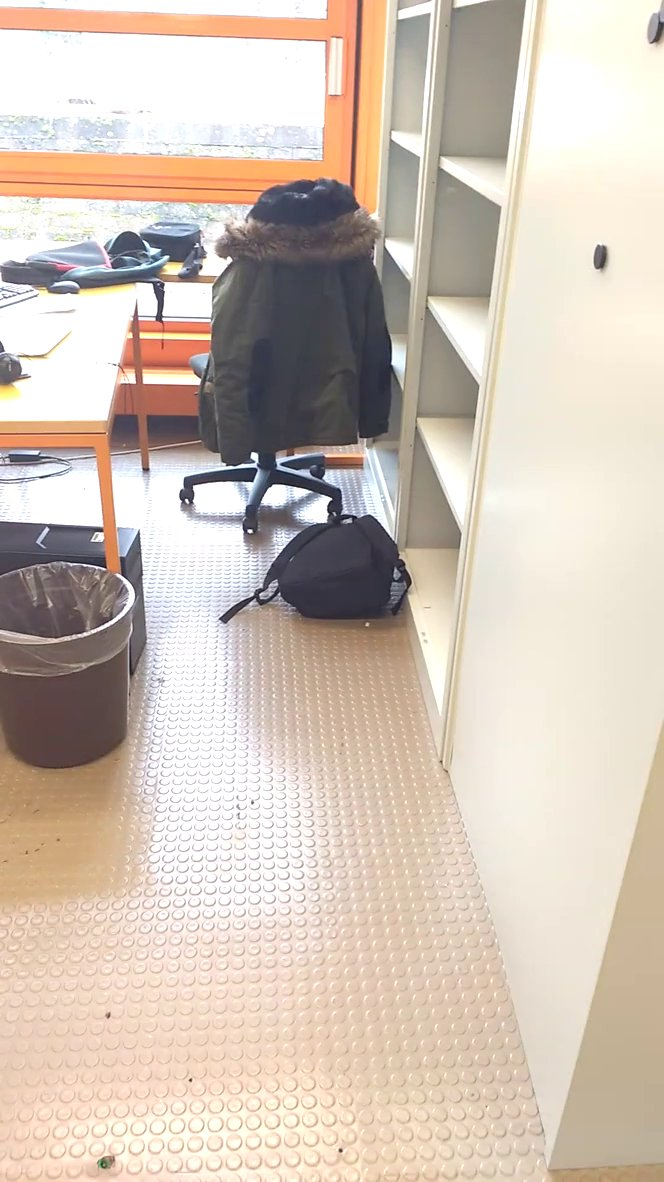bag: (216, 502, 424, 635)
bin: (1, 533, 147, 783)
